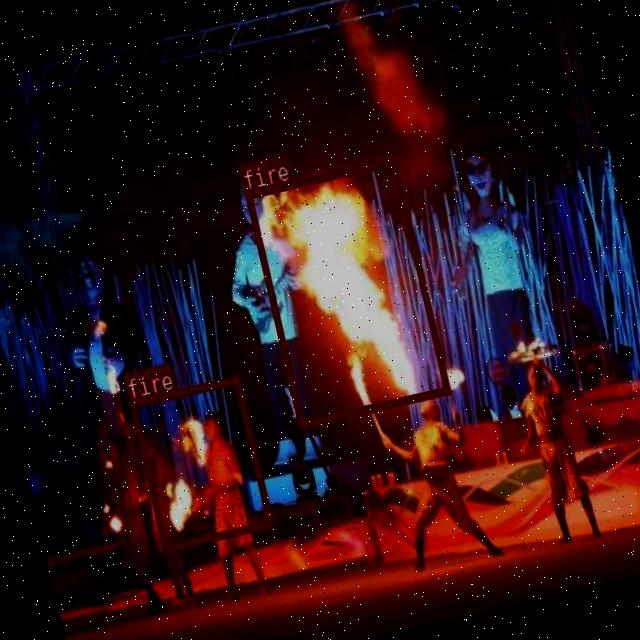fire: (243, 154, 450, 428), (127, 375, 272, 551)
